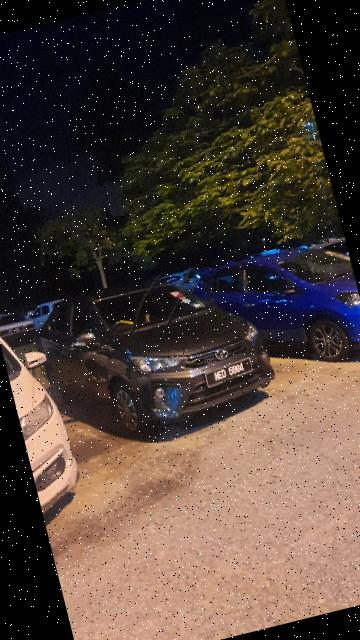License_Plate: (204, 357, 257, 388)
car: (26, 253, 284, 461), (191, 230, 360, 389)
